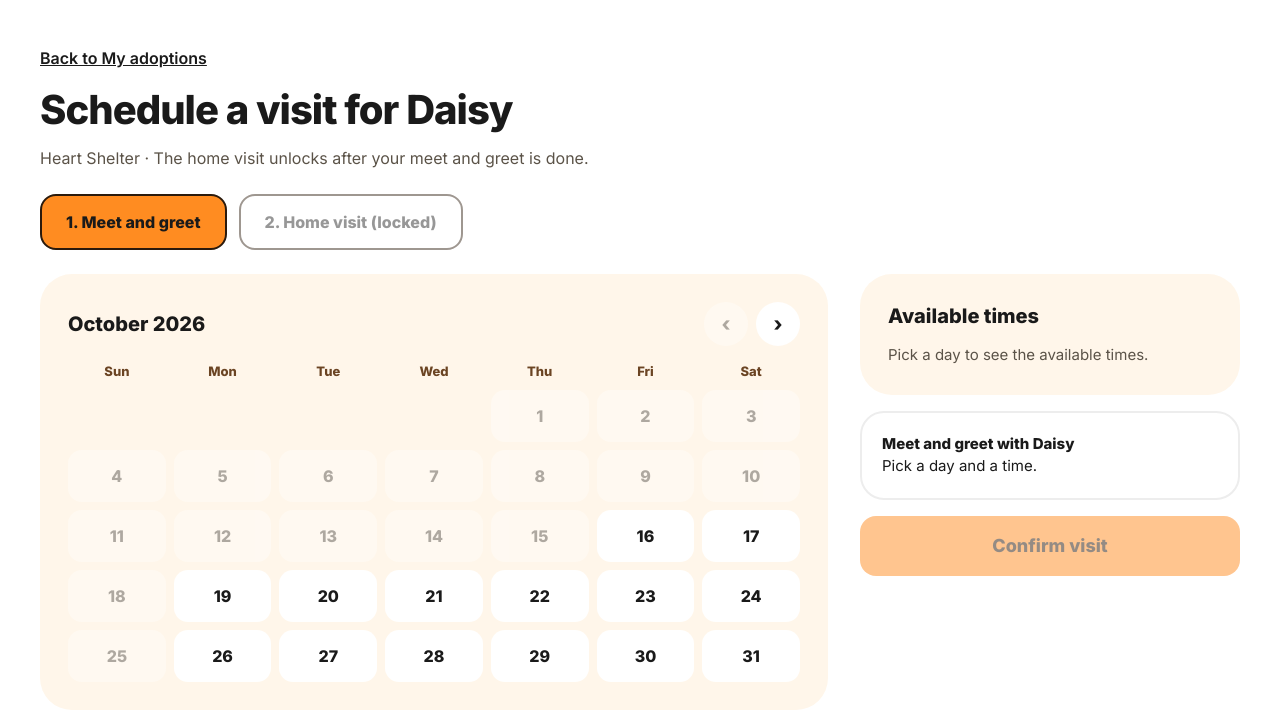
it: ScheduleVisit › disables past days, Sundays and today's past times
The width and height of the screenshot is (1280, 720).
Expected: the button named "Thursday, October 15" is disabled, [491,510,588,562]
Expected: the button named "Sunday, October 18" is disabled, [68,570,166,622]
Click the button named "Friday, October 16": (645, 536) [597,510,694,562]
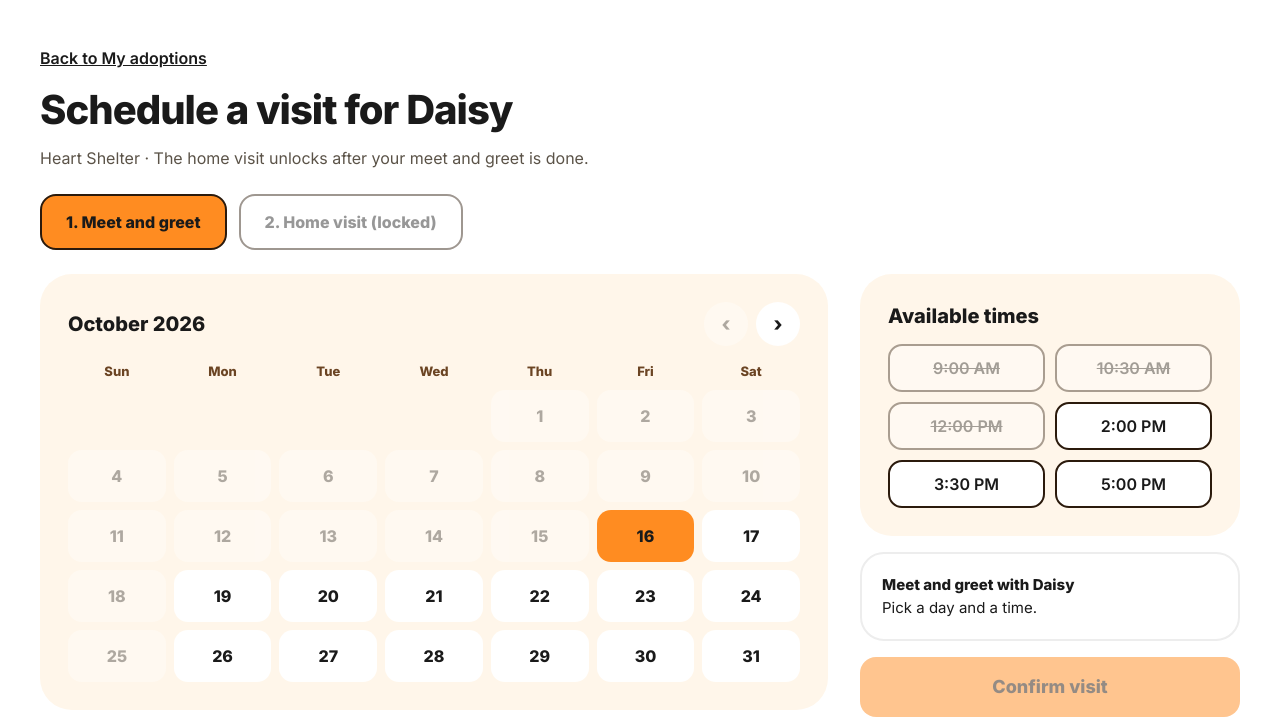
Expected: the button "9:00 AM" is disabled, [888,344,1045,392]
Expected: the button "2:00 PM" is enabled, [1055,402,1212,450]
